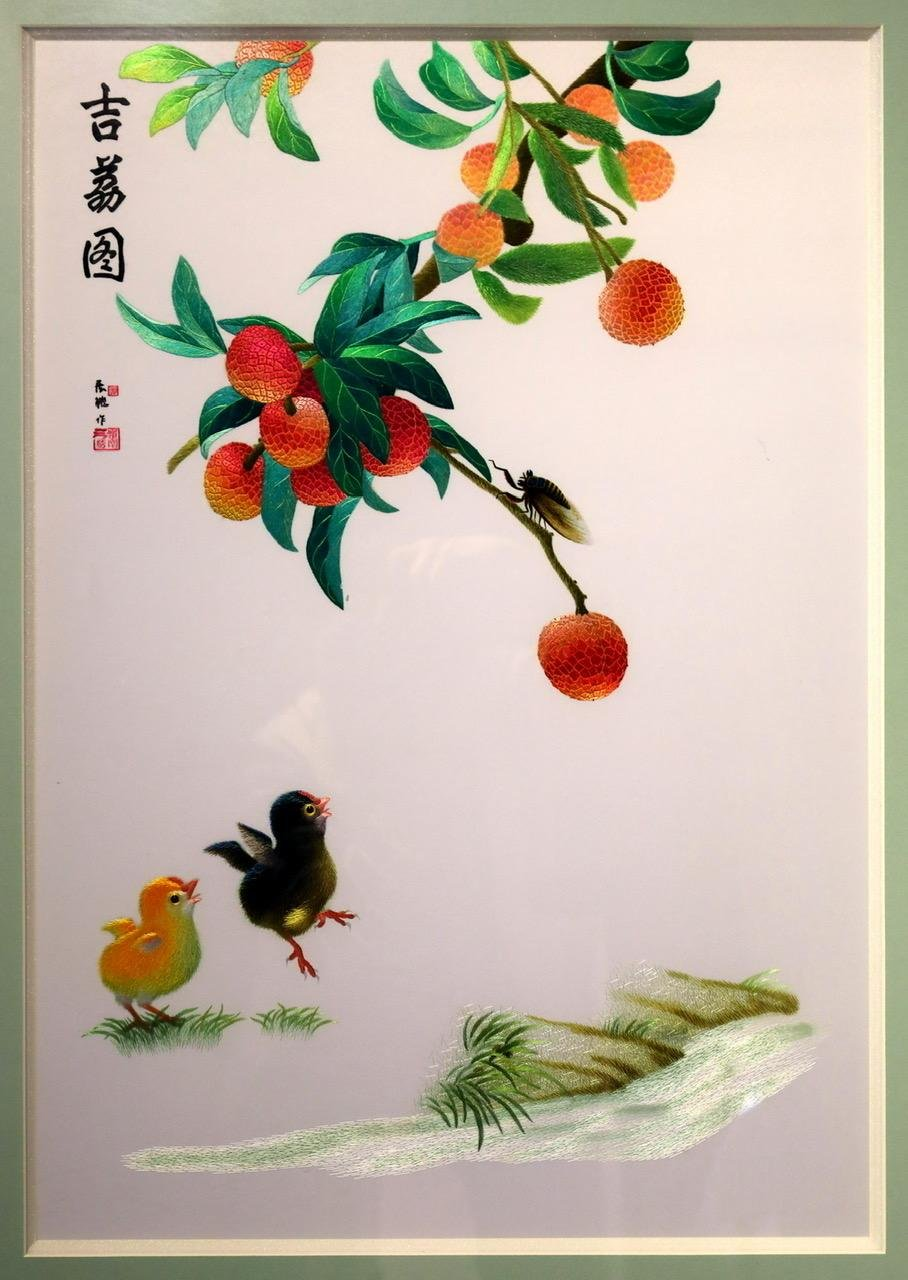lychee: (537, 613, 628, 700), (600, 258, 685, 345), (353, 392, 434, 477), (225, 325, 305, 401), (257, 394, 331, 466), (202, 440, 267, 520), (435, 202, 505, 263), (615, 136, 678, 202), (239, 44, 312, 94), (460, 144, 522, 200), (562, 83, 622, 138), (288, 461, 348, 504)
